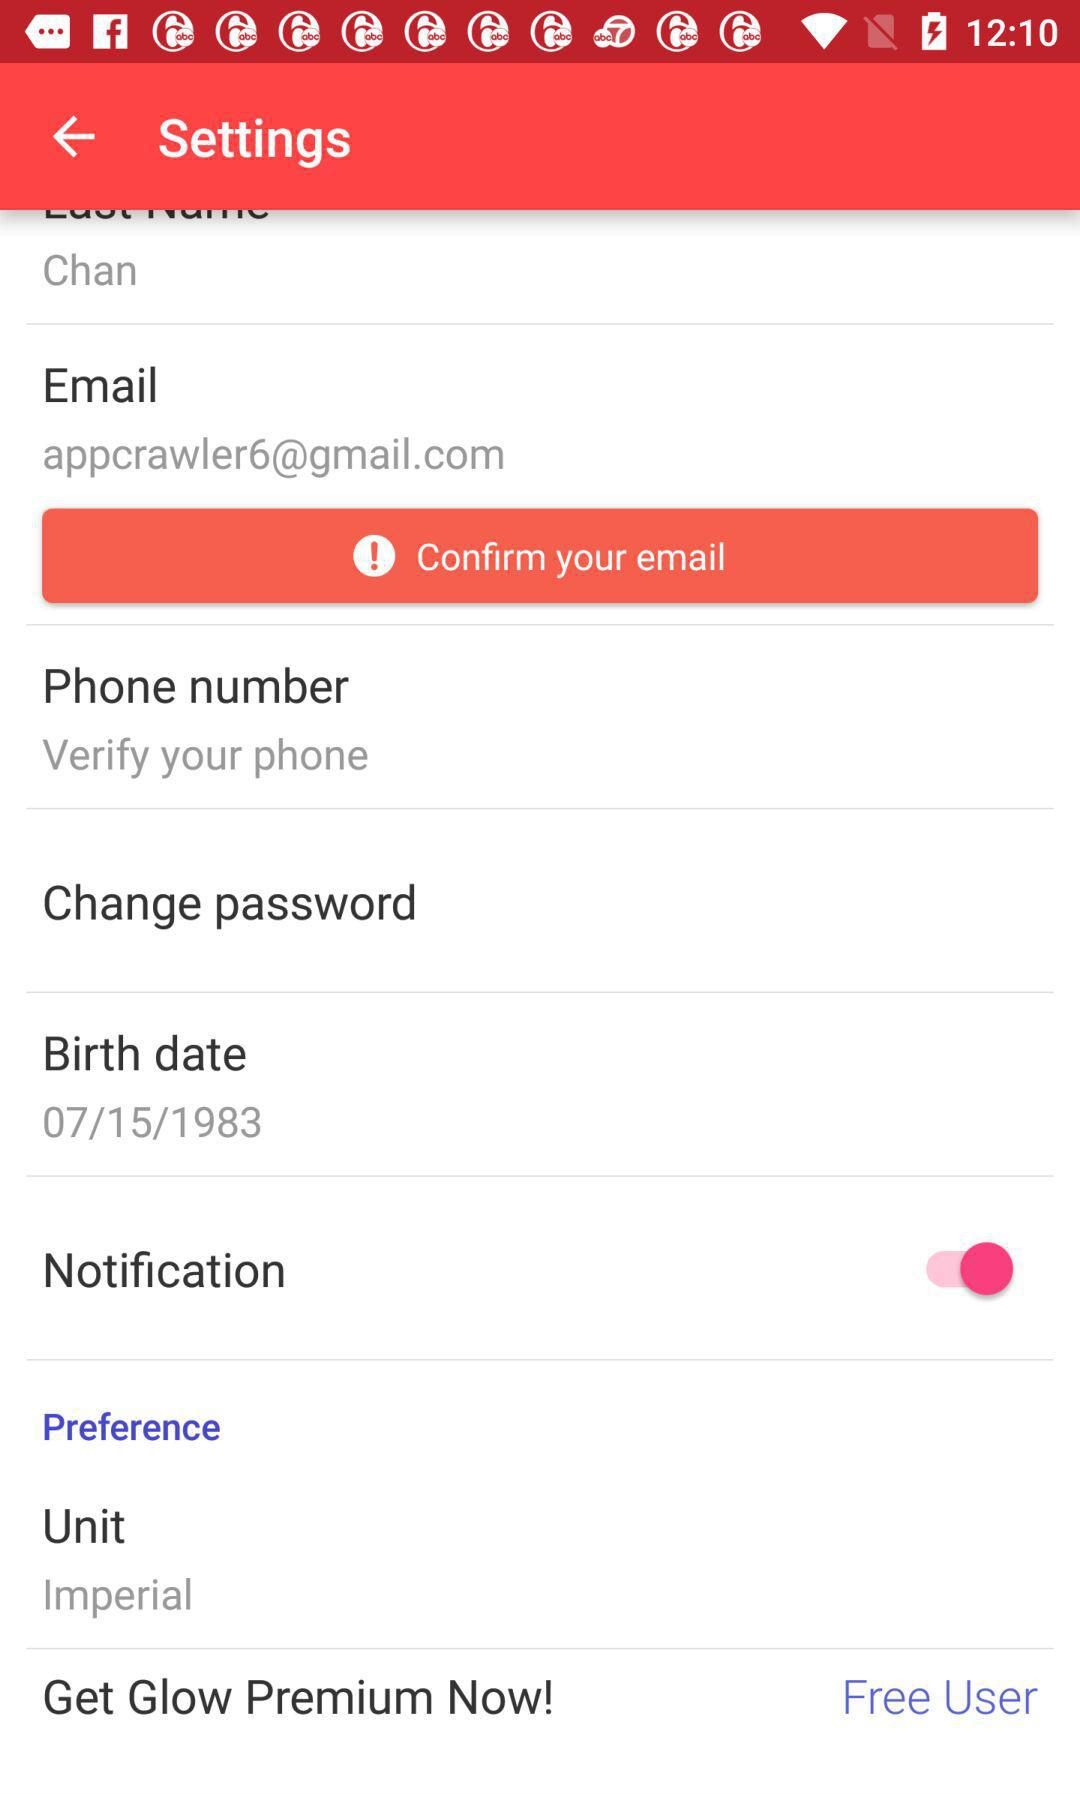Icon: (53, 115, 97, 161)
Switch: (925, 1240, 1013, 1297)
Text: (44, 1677, 553, 1718), (44, 436, 506, 481), (44, 882, 416, 932), (42, 736, 370, 780), (45, 665, 352, 706), (158, 117, 354, 170), (45, 1249, 286, 1290), (44, 1105, 263, 1142), (45, 1033, 249, 1073), (844, 1677, 1040, 1718), (45, 1576, 193, 1621), (44, 1410, 223, 1443), (46, 366, 158, 405), (44, 1504, 127, 1545), (44, 252, 138, 288)
TextButton: (42, 507, 1039, 605)
Toolbar: (1, 64, 1080, 211)
UpperTaskBar: (1, 1, 1080, 64)
